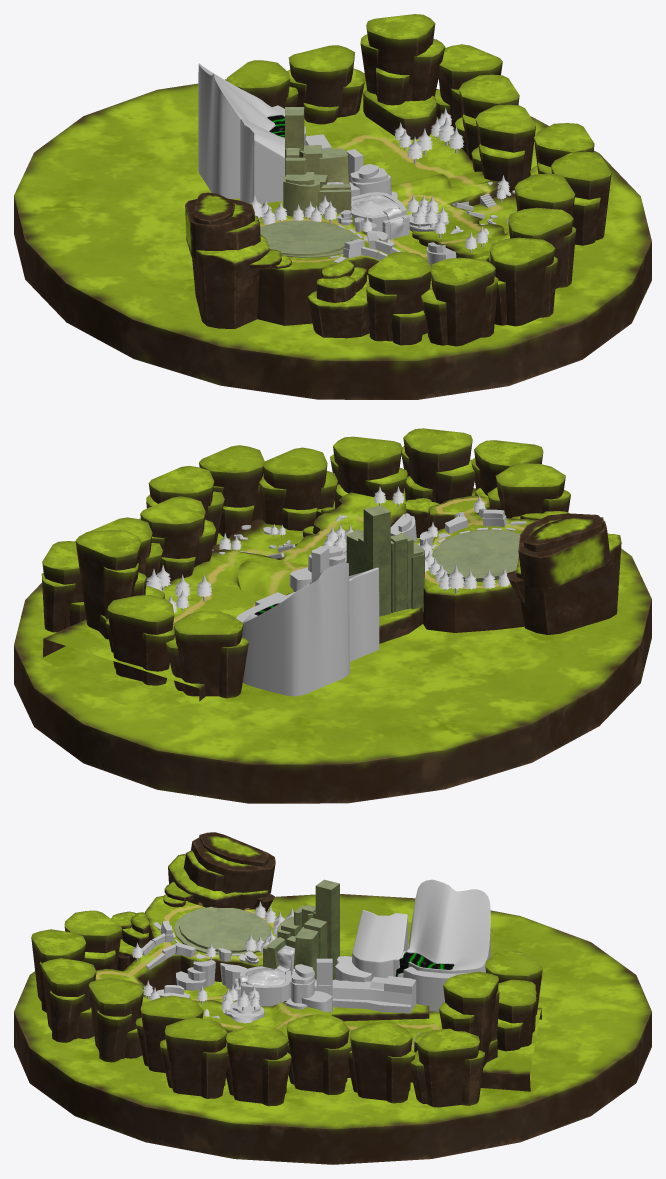
File: mapsDone.fbx
The picture shows the model from 3 angles, top to bottom: view 1: azimuth 30°, elevation 25°; view 2: azimuth 150°, elevation 25°; view 3: azimuth 270°, elevation 25°; orthographic projection. The views are drawn at different scales.
Visible parts, largest first — view 1: polySurface315.001, polySurface315.040, maps1.144, polySurface315.011, polySurface315.026, maps1, maps1.106, maps1.158; view 2: polySurface315.001, polySurface315.040, maps1.144, polySurface315.011, maps1, polySurface315.026; view 3: polySurface315.001, polySurface315.040, maps1.144, polySurface315.011, maps1, maps1.105, polySurface315.026, maps1.039, maps1.106, maps1.158, maps1.018, maps1.095.
Part boxes in pixels (bbox=[...]): polySurface315.001: bbox=[14, 79, 651, 399]; polySurface315.040: bbox=[226, 14, 611, 346]; maps1.144: bbox=[198, 63, 284, 199]; polySurface315.011: bbox=[283, 107, 351, 217]; polySurface315.026: bbox=[308, 230, 509, 338]; maps1: bbox=[240, 119, 284, 205]; maps1.106: bbox=[327, 182, 403, 239]; maps1.158: bbox=[351, 192, 406, 231]; polySurface315.001: bbox=[14, 488, 651, 803]; polySurface315.040: bbox=[41, 428, 570, 698]; maps1.144: bbox=[242, 562, 349, 696]; polySurface315.011: bbox=[346, 505, 424, 616]; maps1: bbox=[349, 567, 379, 661]; polySurface315.026: bbox=[303, 498, 569, 537]; polySurface315.001: bbox=[14, 832, 651, 1164]; polySurface315.040: bbox=[31, 910, 542, 1107]; maps1.144: bbox=[398, 879, 490, 977]; polySurface315.011: bbox=[263, 879, 339, 979]; maps1: bbox=[352, 910, 408, 980]; maps1.105: bbox=[332, 976, 416, 1013]; polySurface315.026: bbox=[111, 911, 149, 1017]; maps1.039: bbox=[403, 966, 470, 1011]; maps1.106: bbox=[234, 945, 294, 989]; maps1.158: bbox=[240, 966, 290, 1006]; maps1.018: bbox=[335, 956, 371, 982]; maps1.095: bbox=[316, 958, 332, 996].
Bounding box in the file's own units: 2868 × 815 × 3276.
